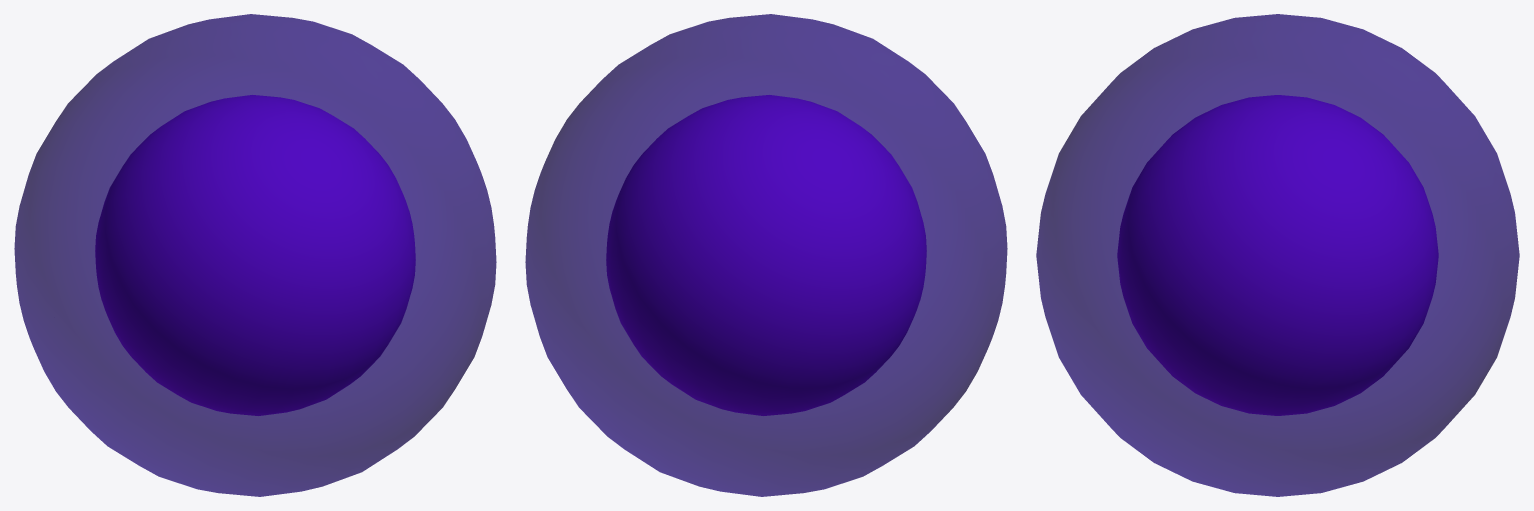
The model's file is magicBall.FBX.
3 views of the same model, side by side, from view 1: azimuth 30°, elevation 25°; view 2: azimuth 150°, elevation 25°; view 3: azimuth 270°, elevation 25° (orthographic).
Parts seen in each view (by area): view 1: Sphere003, Sphere002; view 2: Sphere003, Sphere002; view 3: Sphere003, Sphere002.
Part boxes in pixels (bbox=[...]): Sphere003: bbox=[14, 14, 496, 496]; Sphere002: bbox=[95, 95, 415, 415]; Sphere003: bbox=[525, 14, 1007, 496]; Sphere002: bbox=[606, 95, 926, 415]; Sphere003: bbox=[1036, 14, 1519, 496]; Sphere002: bbox=[1117, 95, 1438, 415].
Bounding box in the file's own units: 130 × 130 × 130.
